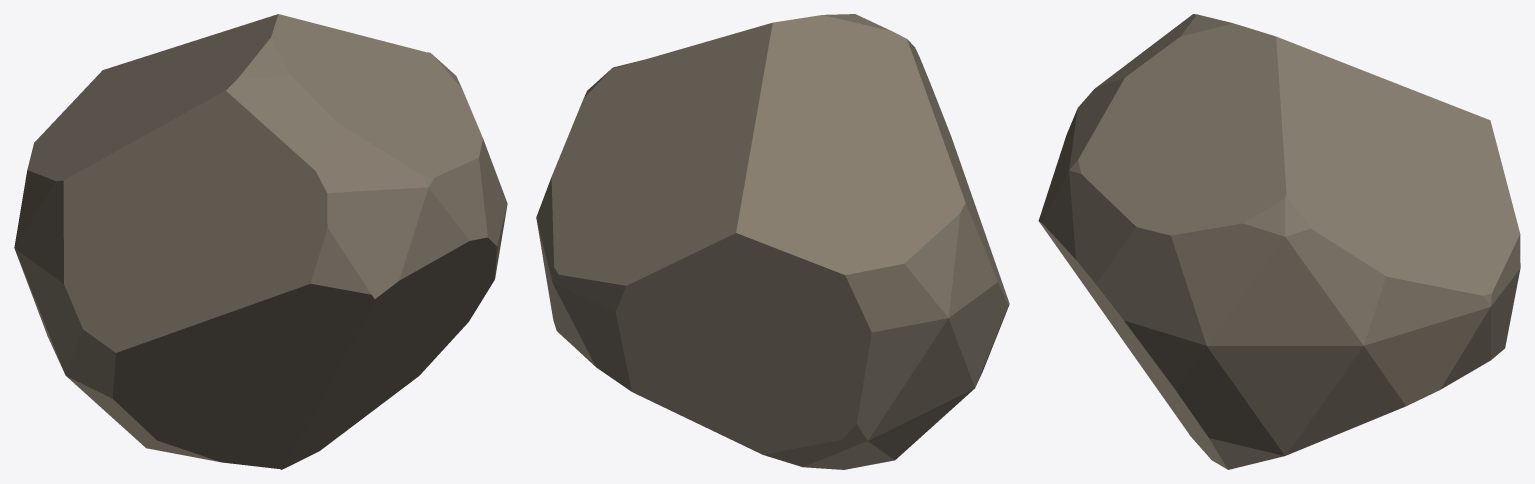
File: stone.fbx
The picture shows the model from 3 angles, left to right: view 1: azimuth 30°, elevation 25°; view 2: azimuth 150°, elevation 25°; view 3: azimuth 270°, elevation 25°; orthographic projection.
Visible parts, largest first — view 1: Icosphere; view 2: Icosphere; view 3: Icosphere.
Part boxes in pixels (x1,y1,x2,y2): Icosphere: [14, 14, 507, 469]; Icosphere: [536, 14, 1009, 469]; Icosphere: [1038, 14, 1520, 469].
Bounding box in the file's own units: 190 × 186 × 190.
